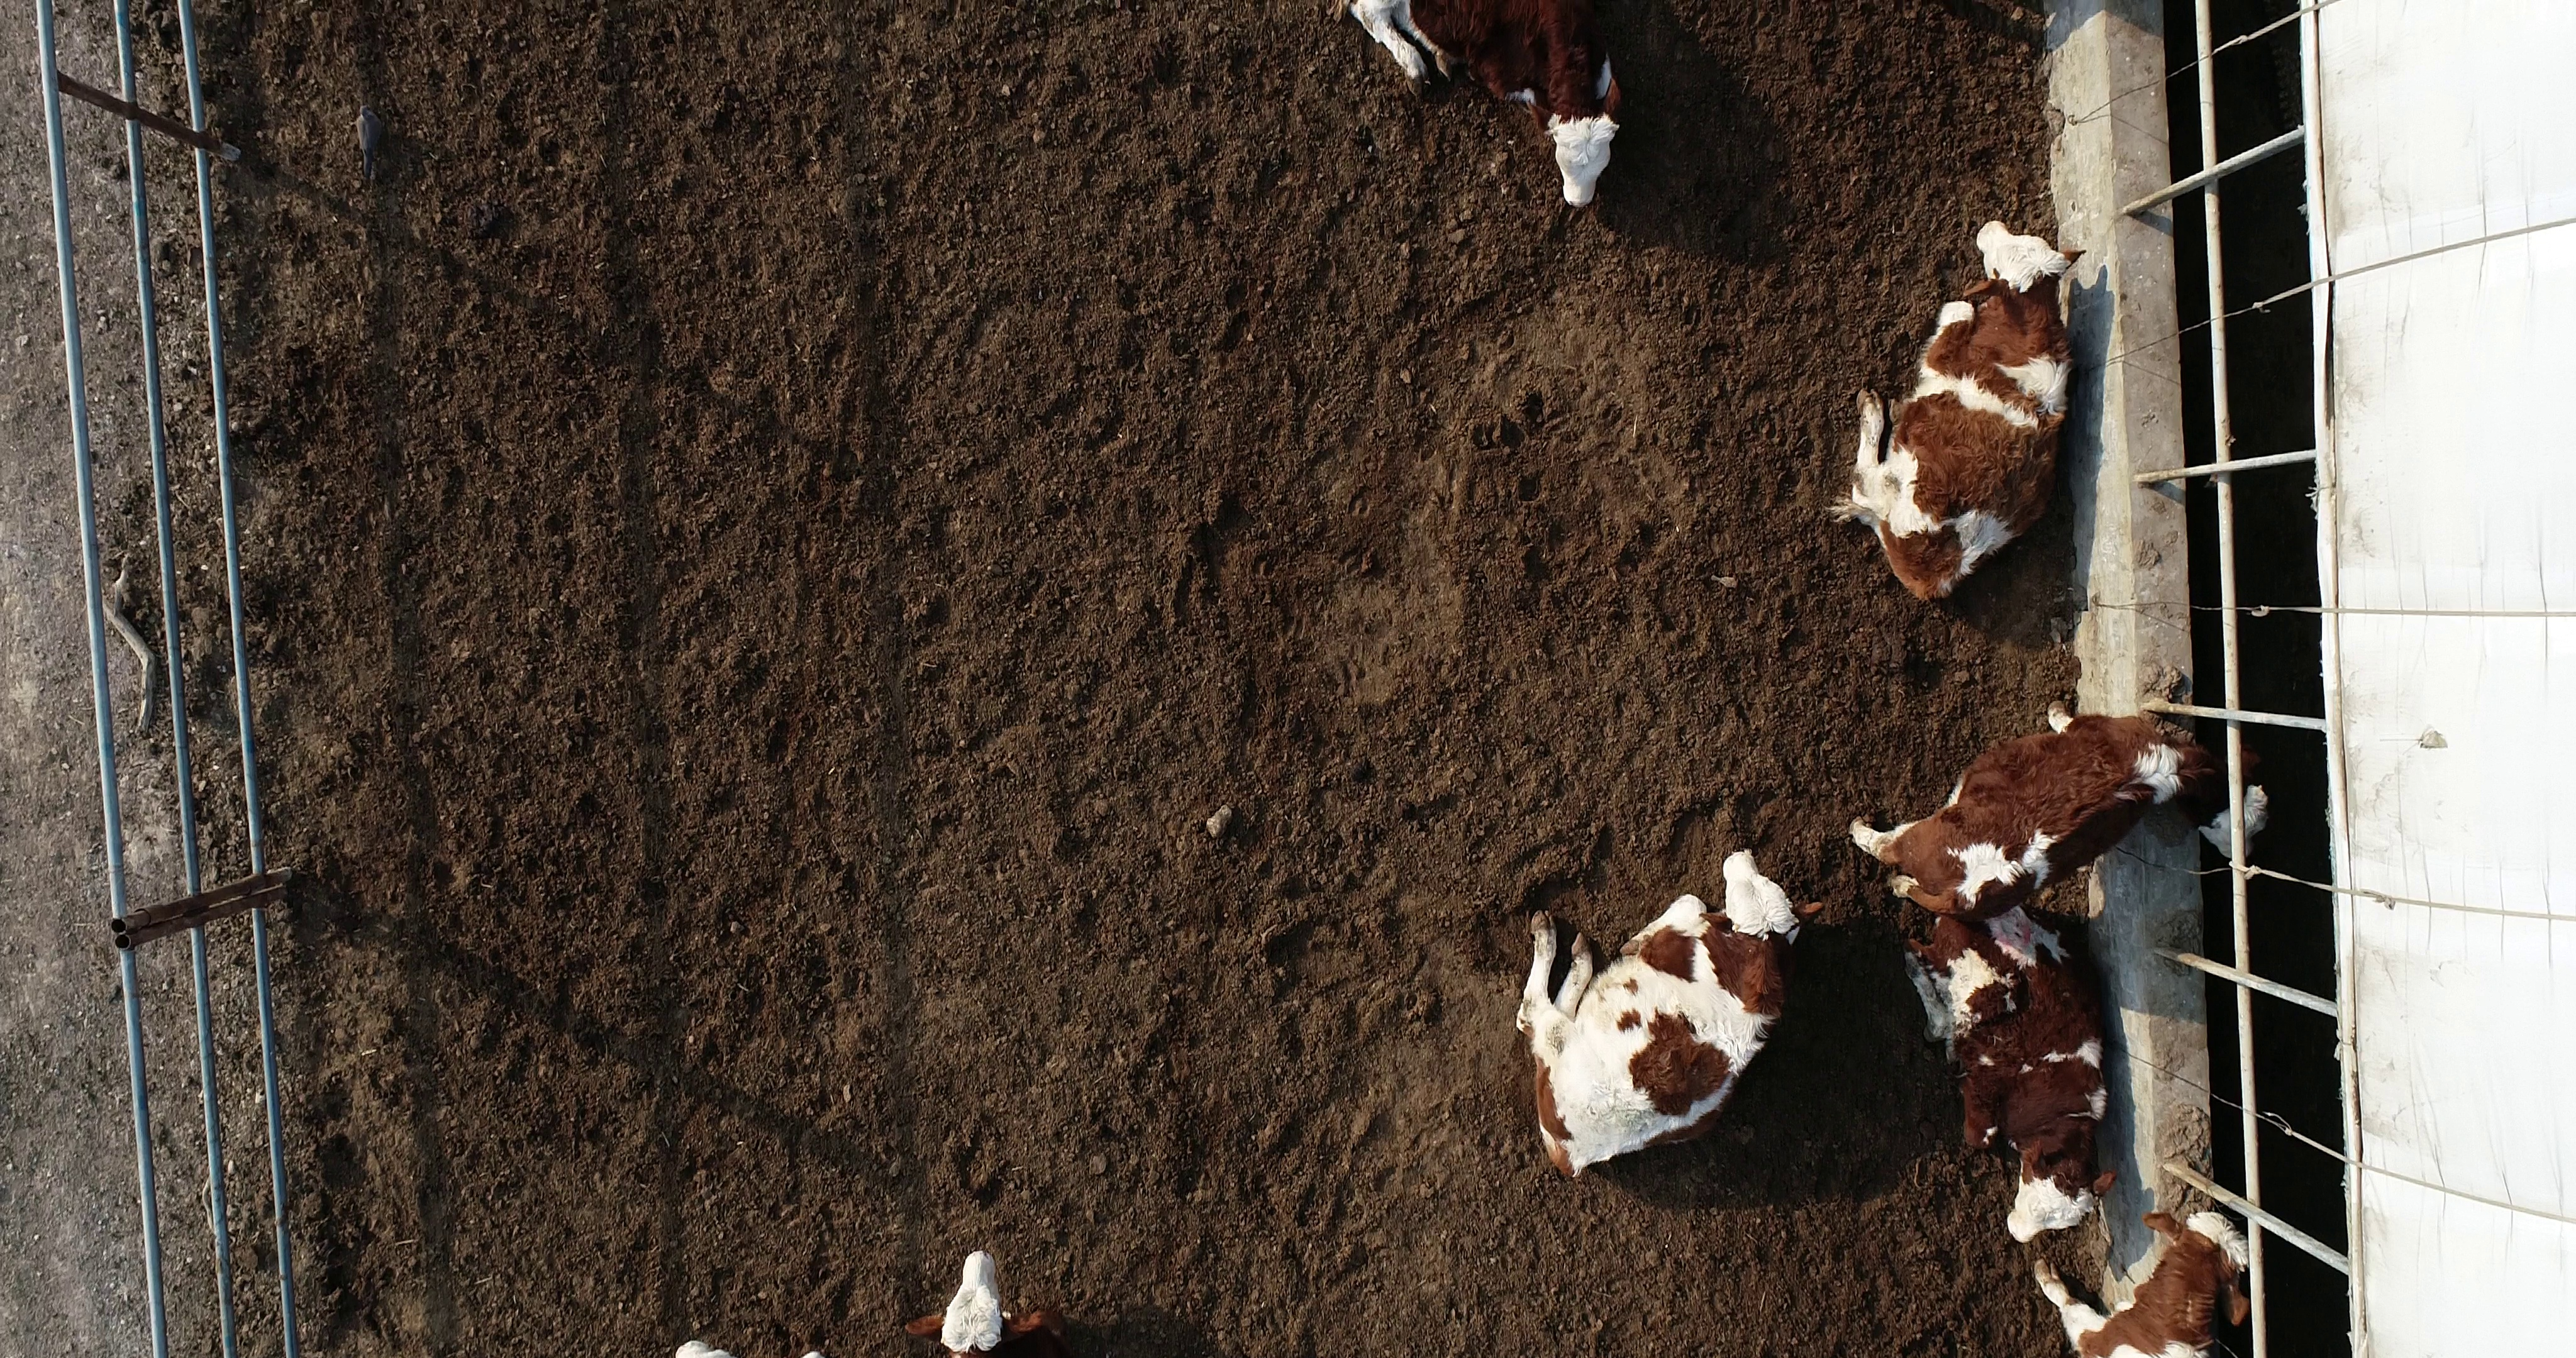cattle: (1506, 845, 1830, 1184), (1820, 216, 2092, 612), (1842, 695, 2276, 927)
